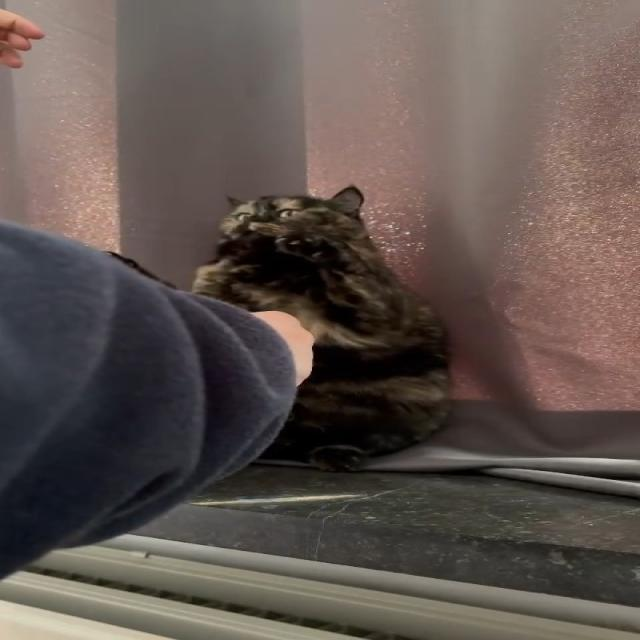authorized: (188, 183, 453, 472)
